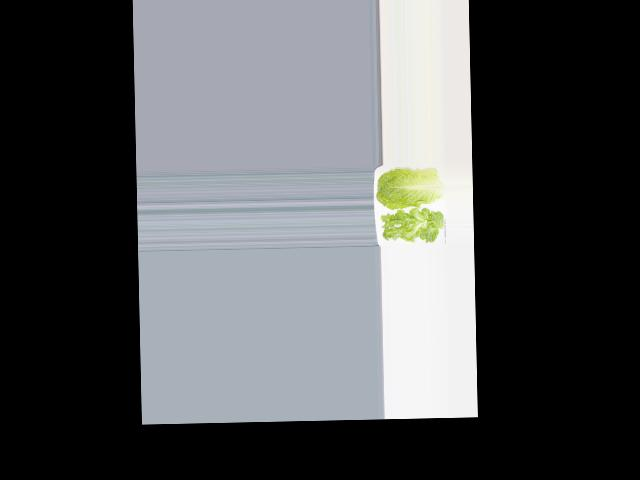lettuce: (380, 209, 442, 247)
